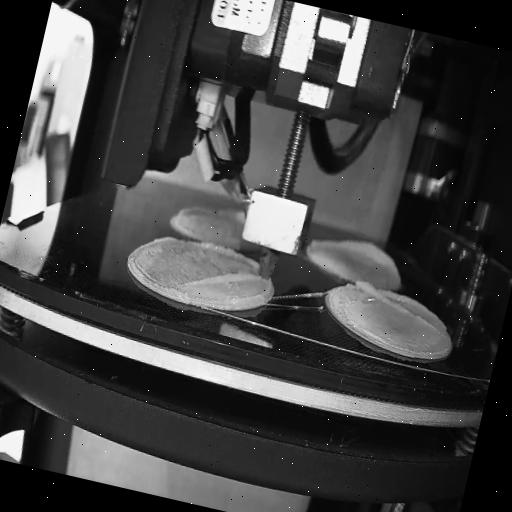over_extrusion: (349, 278, 446, 336), (309, 228, 407, 274), (180, 256, 262, 306)
